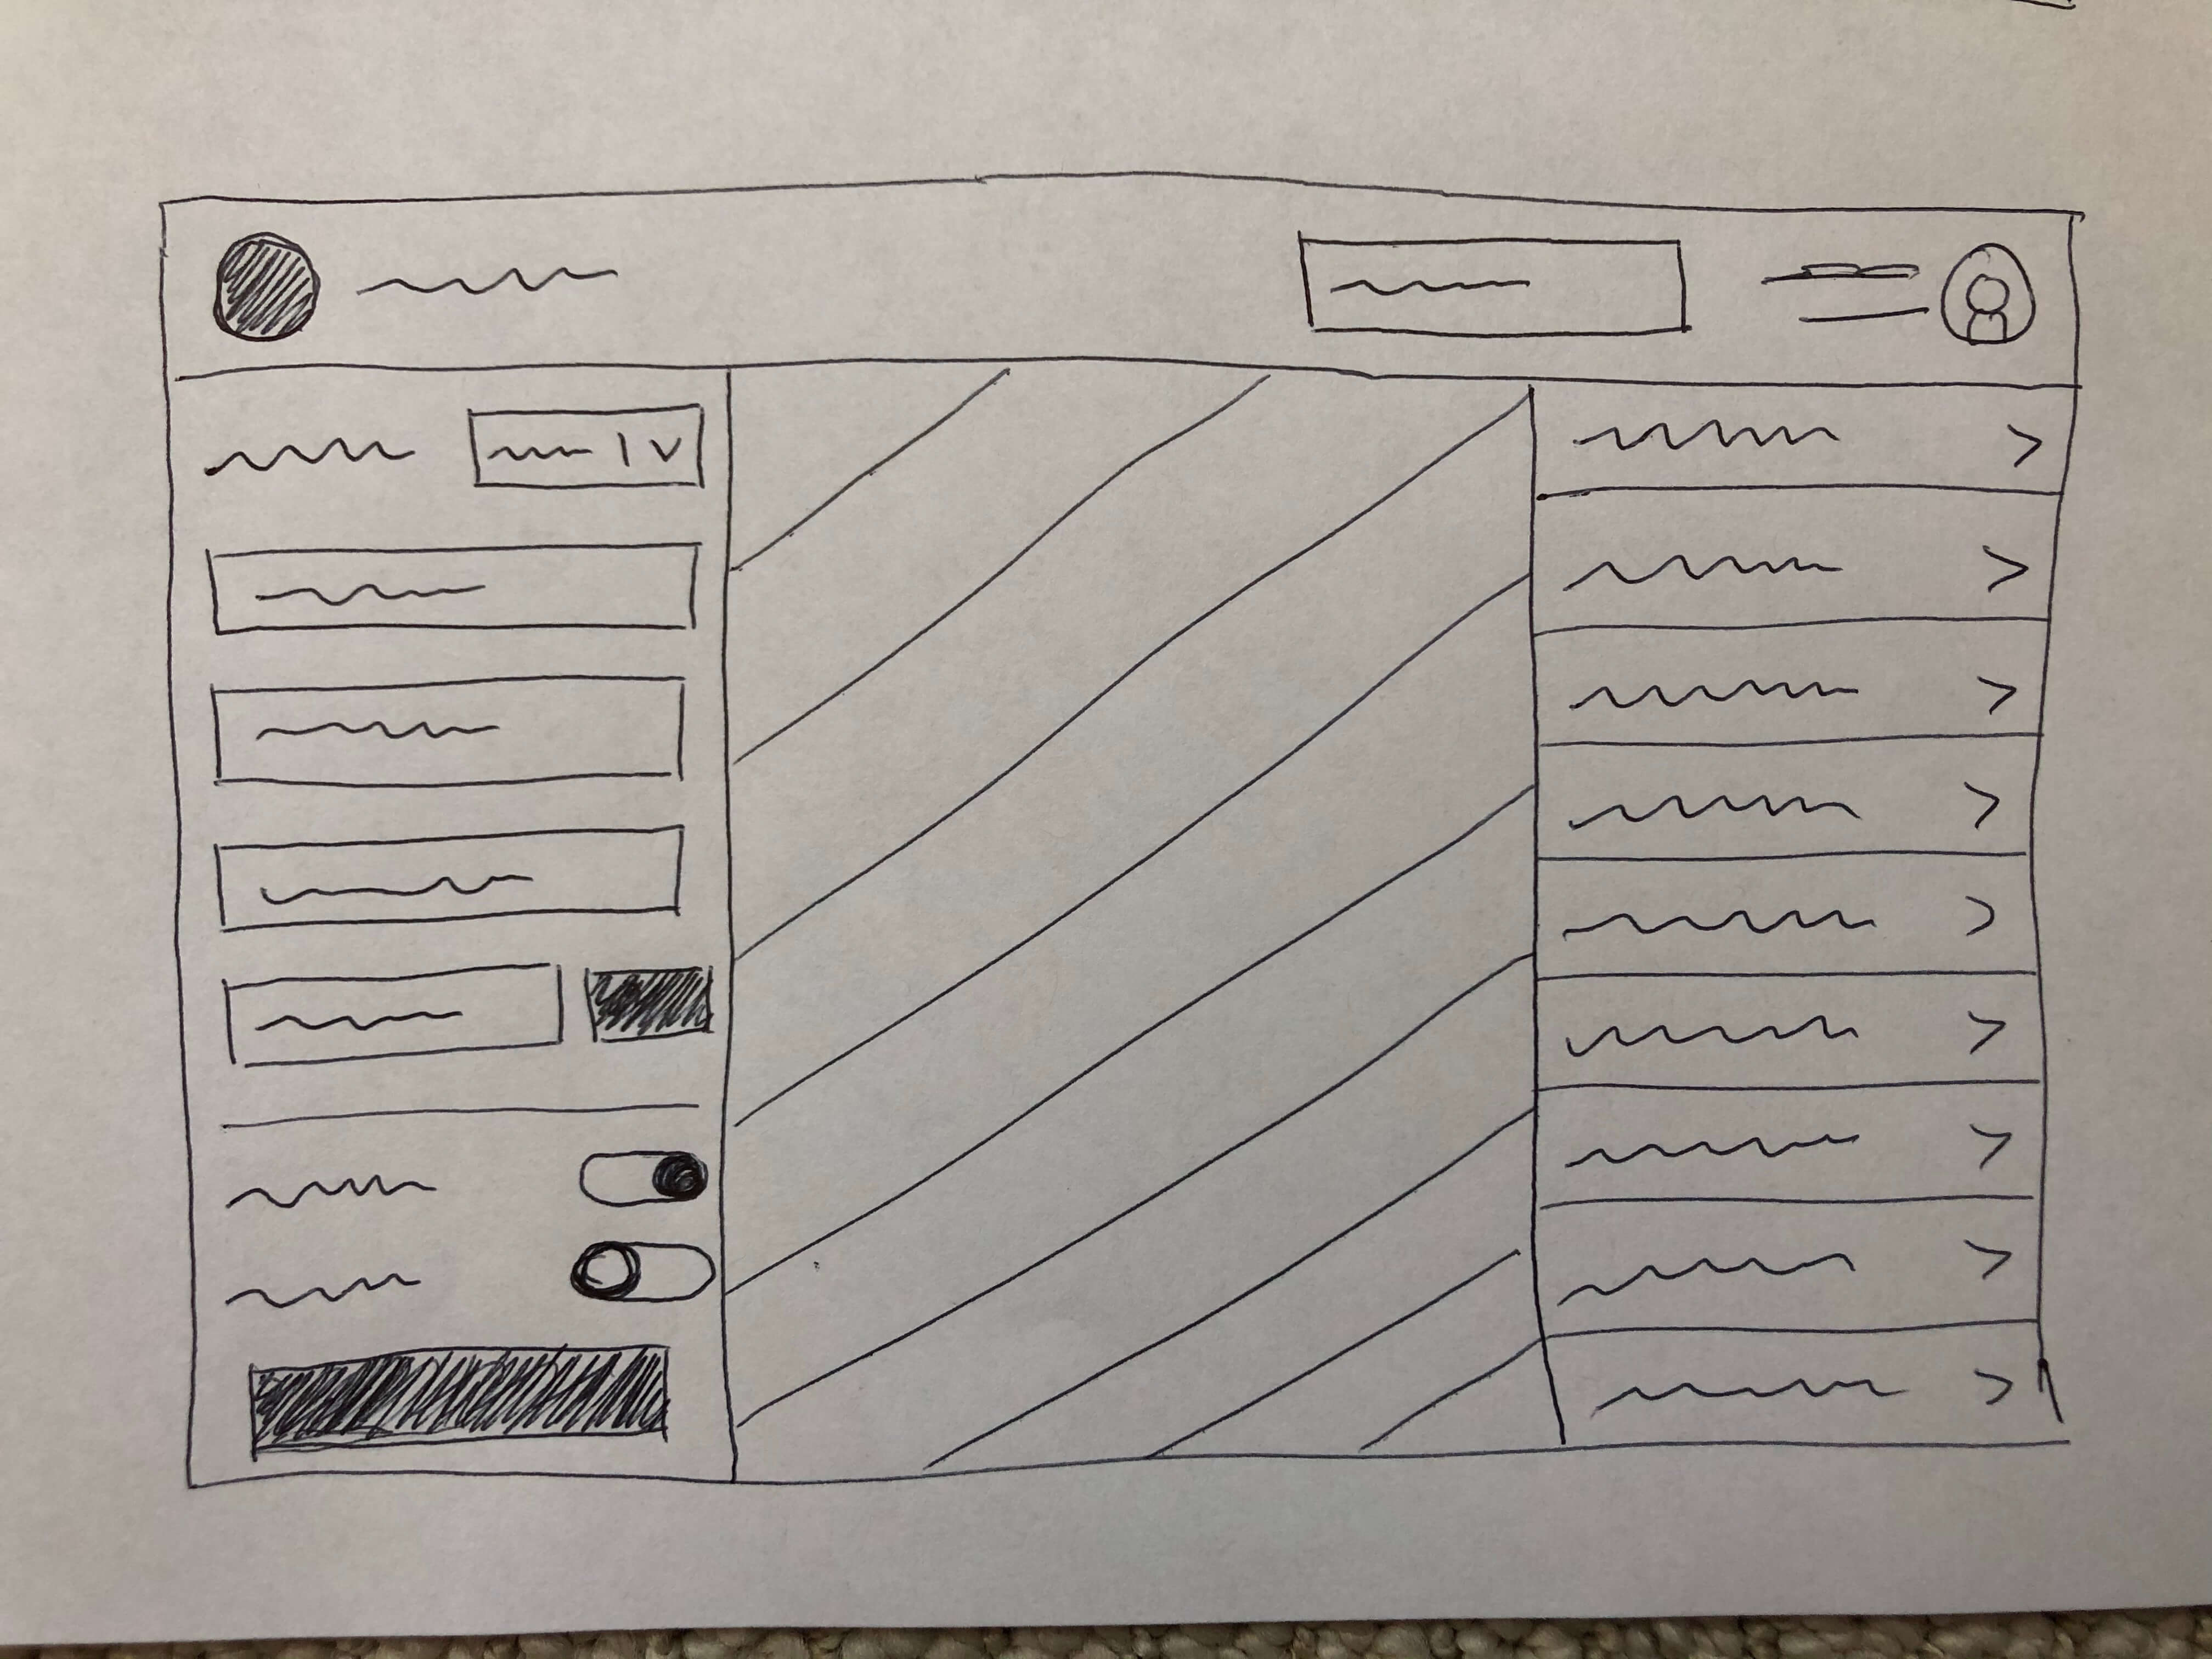avatar: (1754, 234, 2041, 359)
button: (244, 1335, 672, 1467), (578, 955, 719, 1047)
input: (200, 667, 690, 793), (1287, 216, 1709, 356), (206, 819, 693, 927), (197, 535, 702, 636), (218, 955, 568, 1066)
map: (719, 352, 1564, 1469)
split-button: (462, 397, 709, 498)
switch: (563, 1230, 714, 1312), (570, 1138, 712, 1213)
